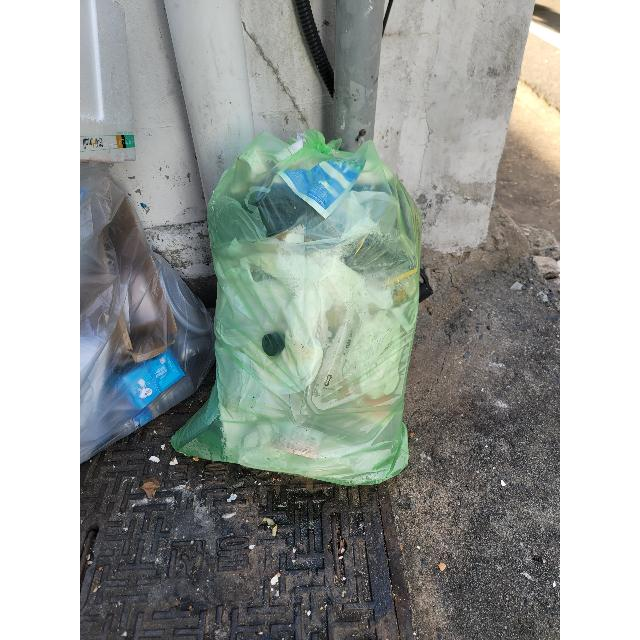general_trashbag: (181, 131, 419, 486)
other_trashbag: (80, 144, 203, 494)
